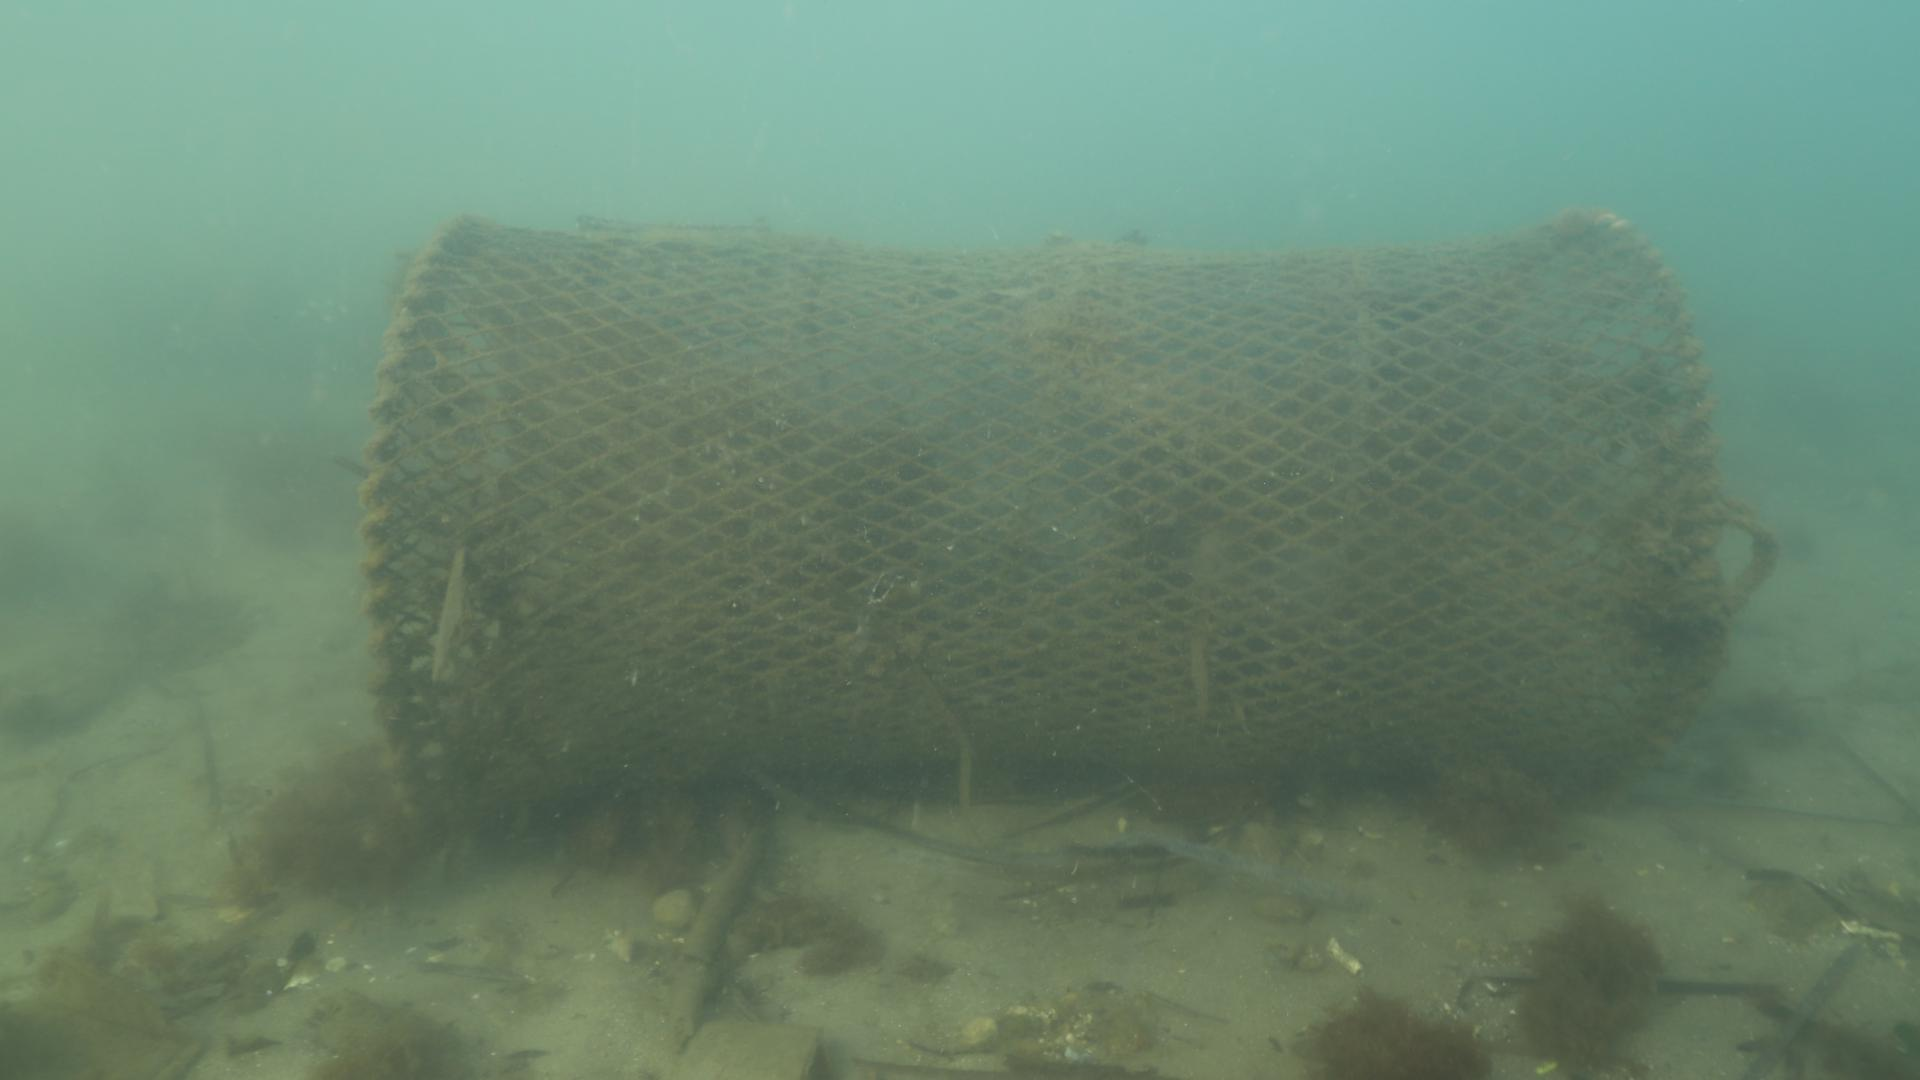spring fish trap: (351, 212, 1727, 855)
